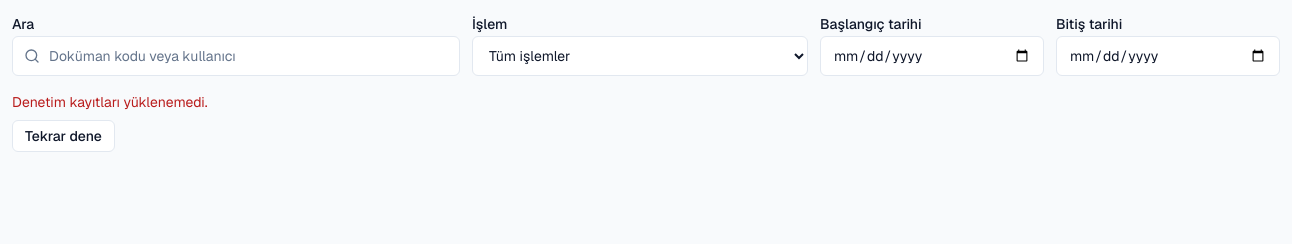
Test case: AuditLogList › reports a failure and lets the user retry
expect the message shows "Denetim kayıtları yüklenemedi.": met, box 12,93 -> 208,111
Click the button "Tekrar dene" at (63, 136), box 12,120 -> 115,152
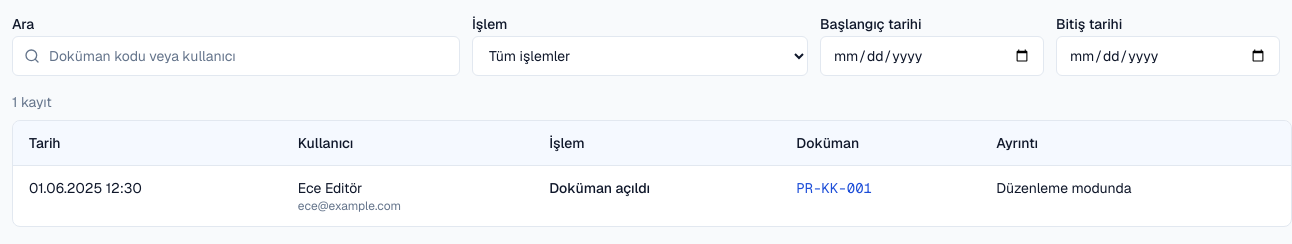
expect the table named "Denetim kayıtları" is shown: met, box 13,121 -> 1291,226
